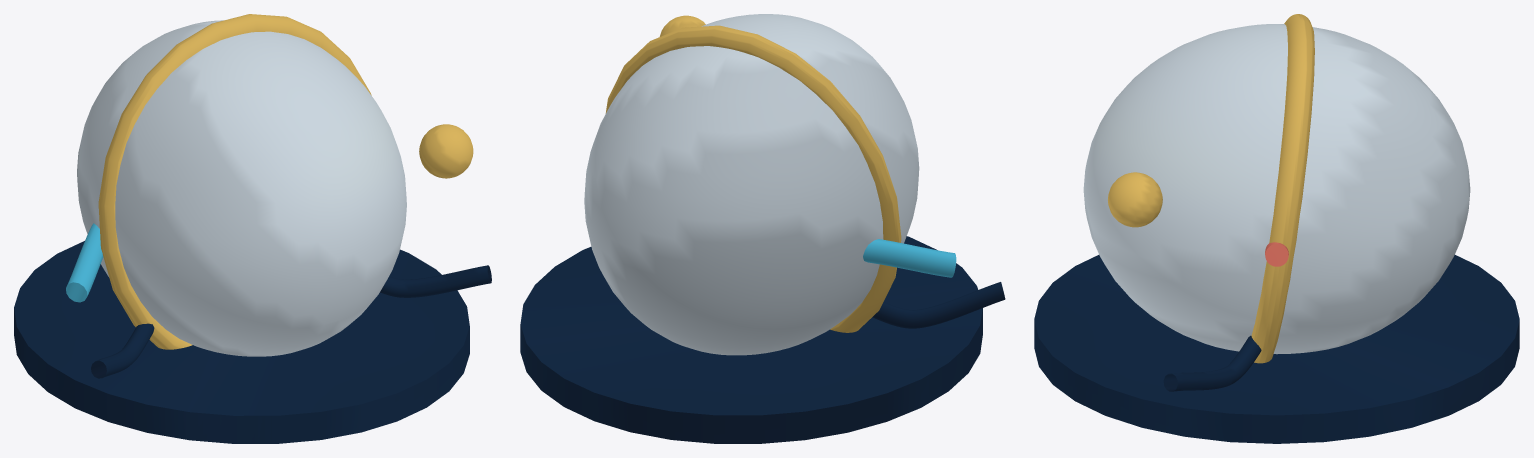
Rendered from 0430_微生物图鉴_小球藻.glb.
The picture shows the model from 3 angles, left to right: view 1: azimuth 30°, elevation 25°; view 2: azimuth 150°, elevation 25°; view 3: azimuth 270°, elevation 25°; orthographic projection.
Visible parts, largest first — view 1: card_0430; view 2: card_0430; view 3: card_0430.
Part boxes in pixels (bbox=[...]): card_0430: bbox=[14, 14, 491, 443]; card_0430: bbox=[520, 14, 1005, 443]; card_0430: bbox=[1034, 14, 1519, 443].
Size of the model in its own units: 1.29 by 1 by 1.34.
